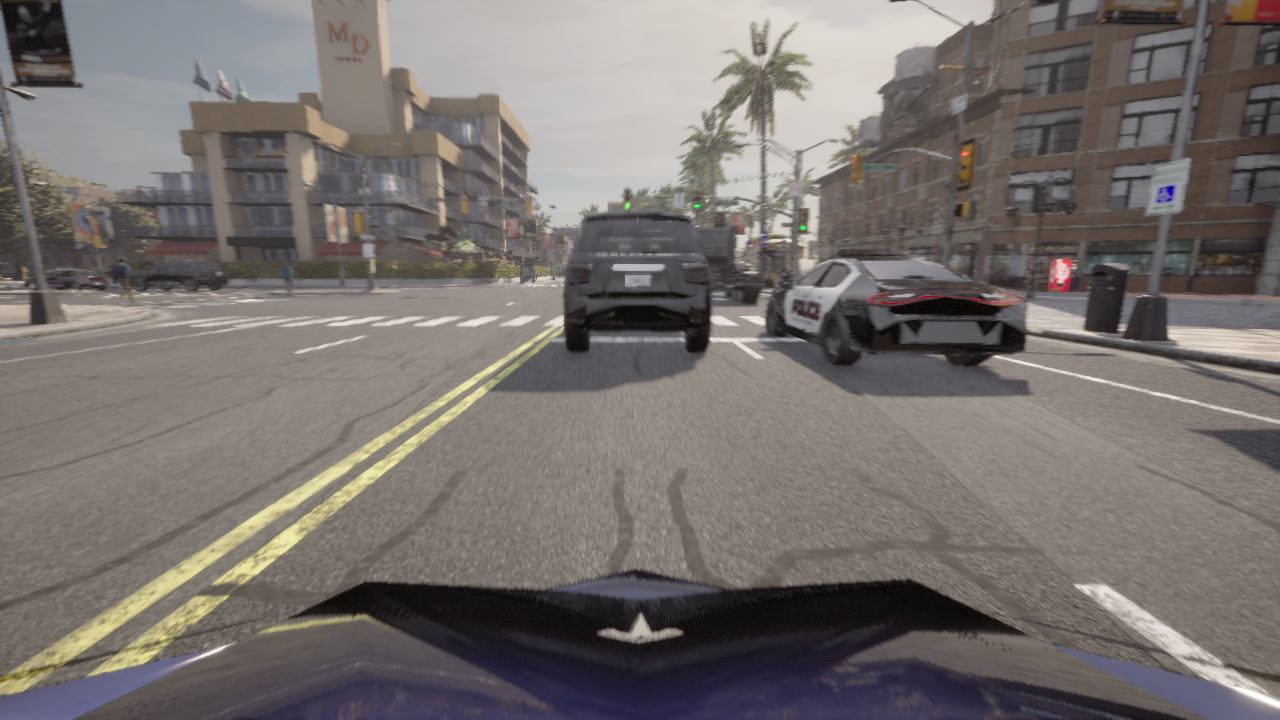cyclist: (0, 569, 1279, 719), (764, 250, 1026, 367), (563, 212, 710, 352), (695, 226, 762, 303), (128, 260, 229, 291), (23, 269, 107, 290)
pedestrian: (112, 257, 137, 304), (280, 261, 293, 296)
